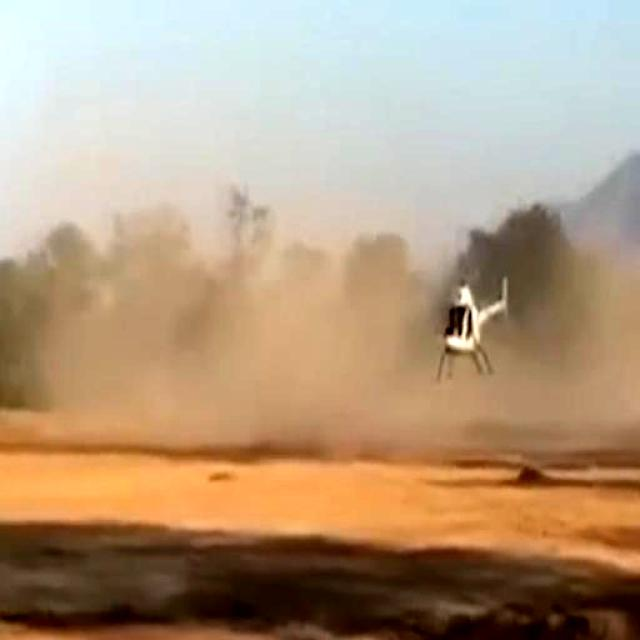drone: (422, 255, 519, 379)
